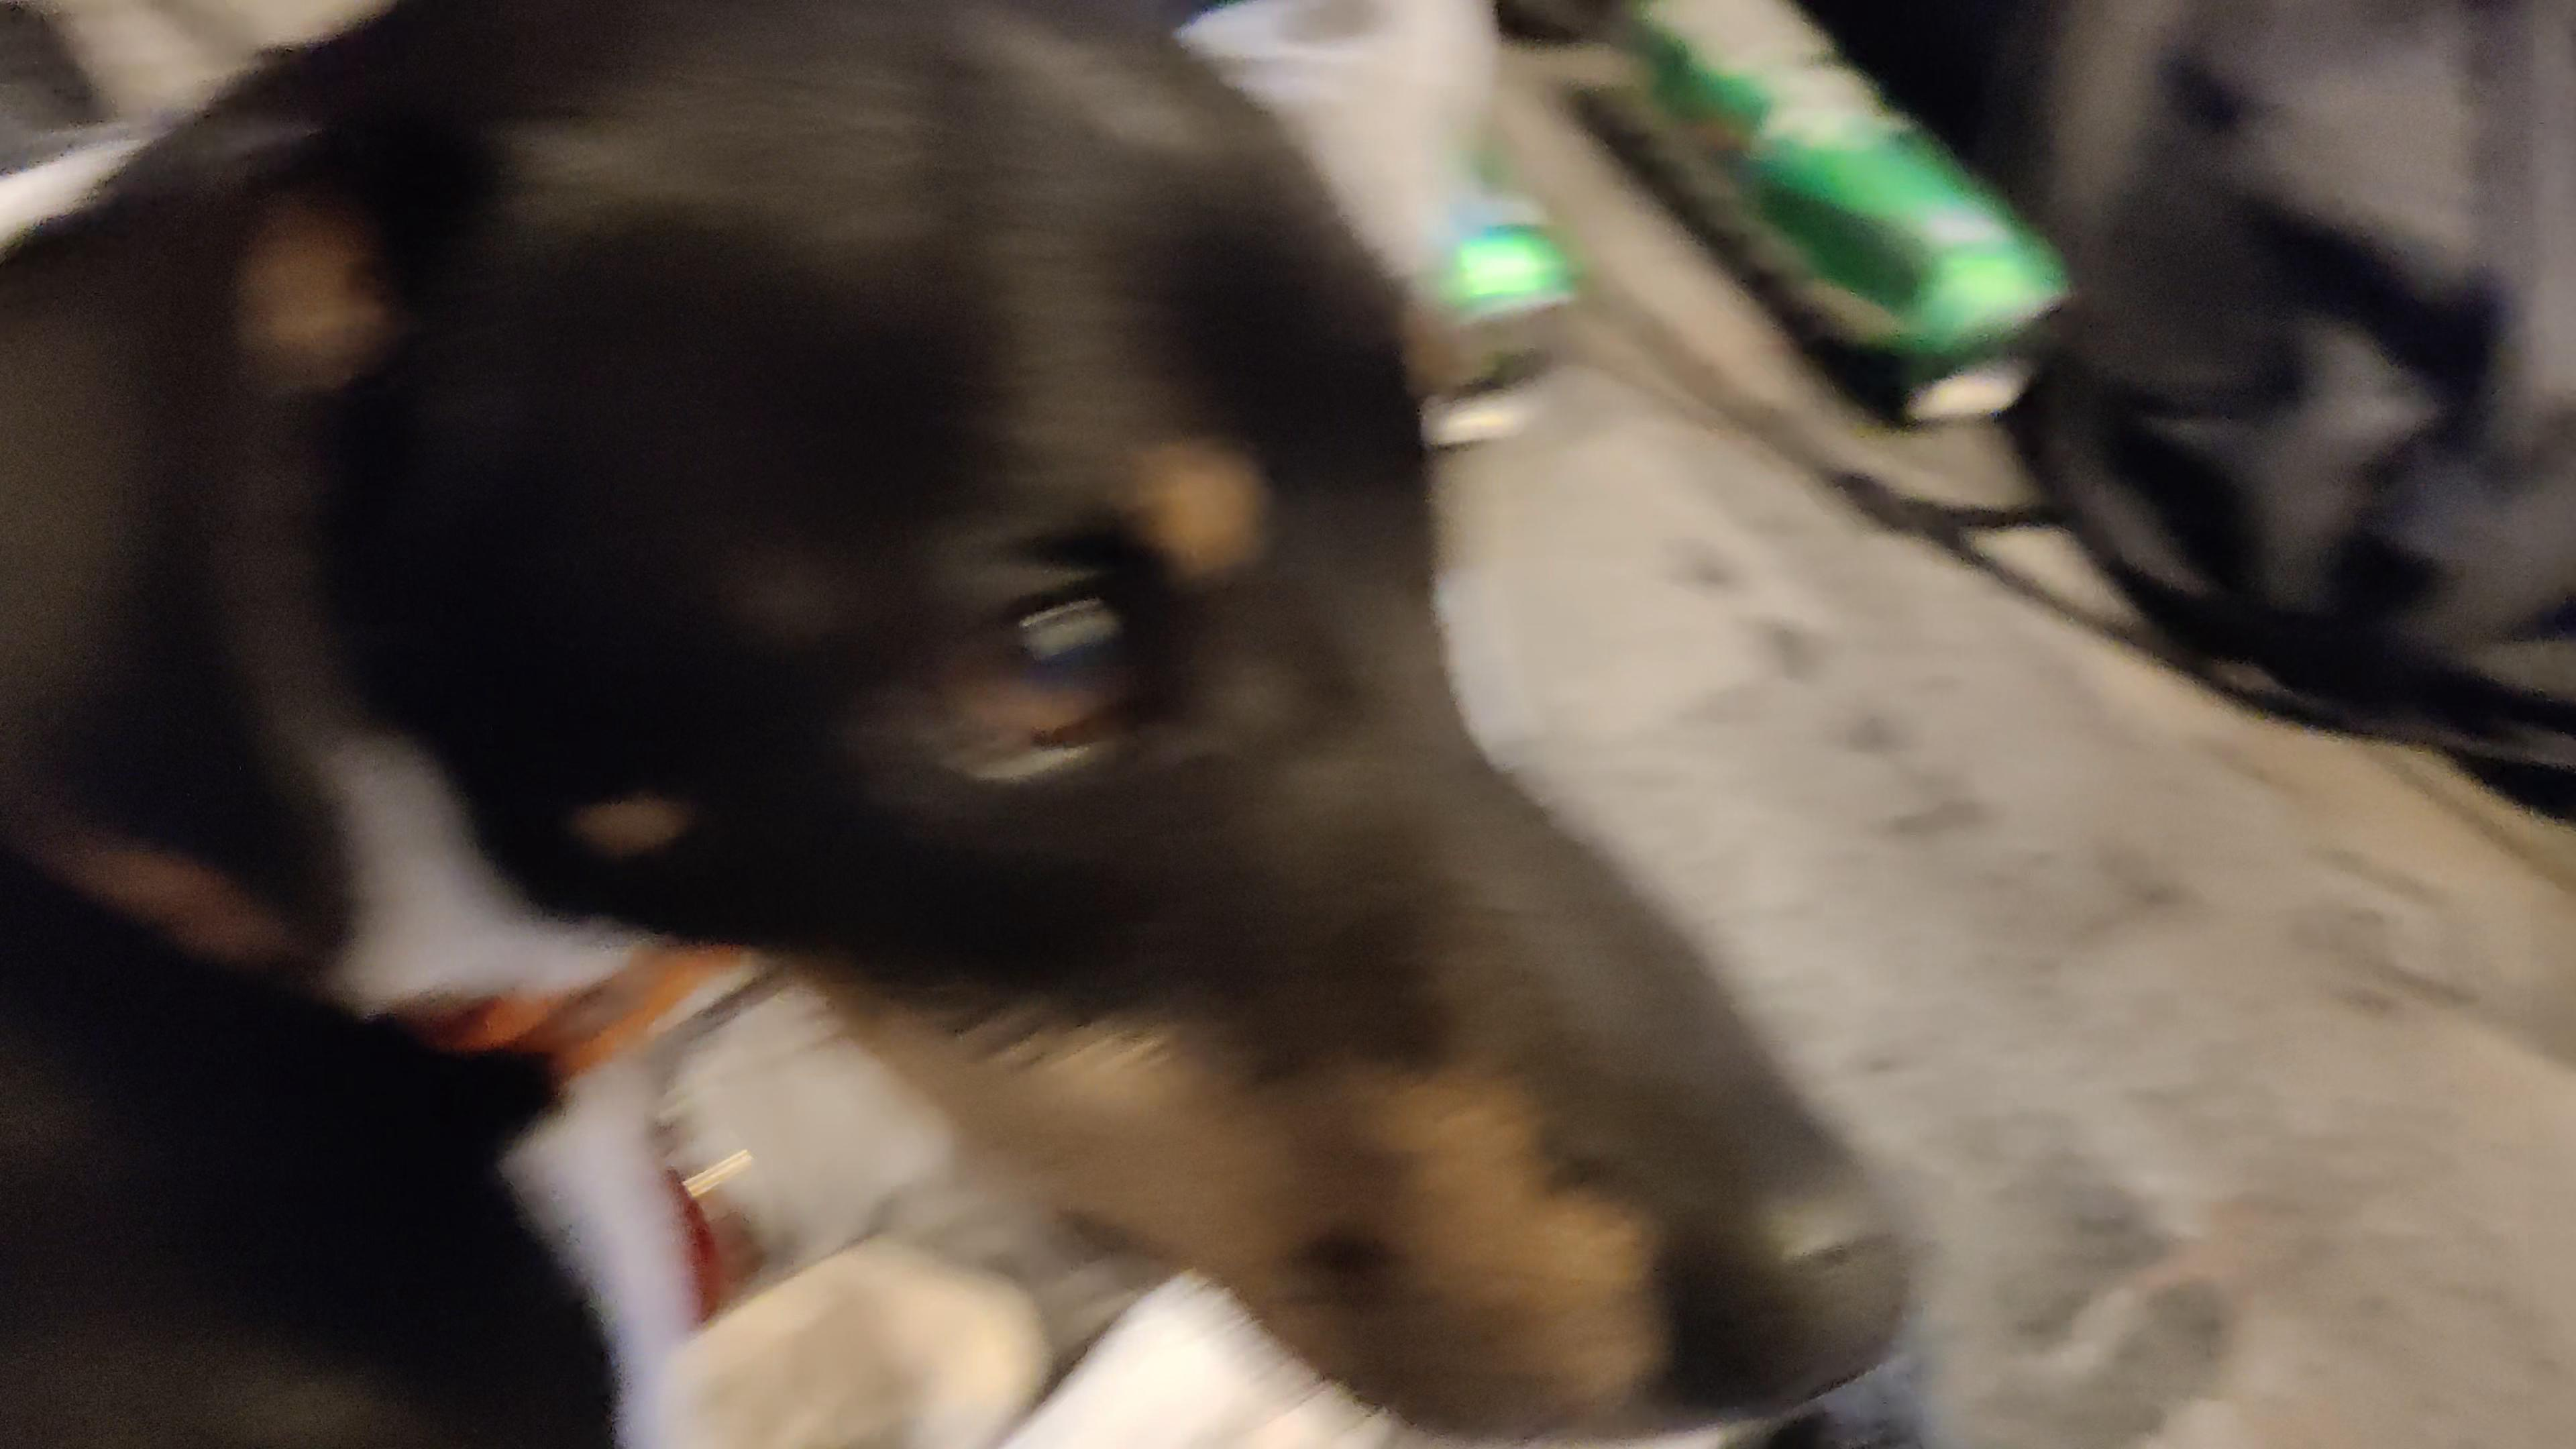Dog: (0, 0, 1966, 1449)
